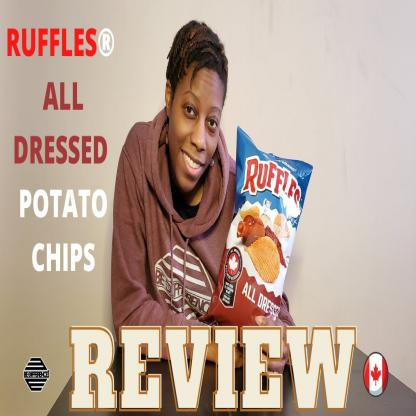potatochip: (214, 120, 318, 365)
